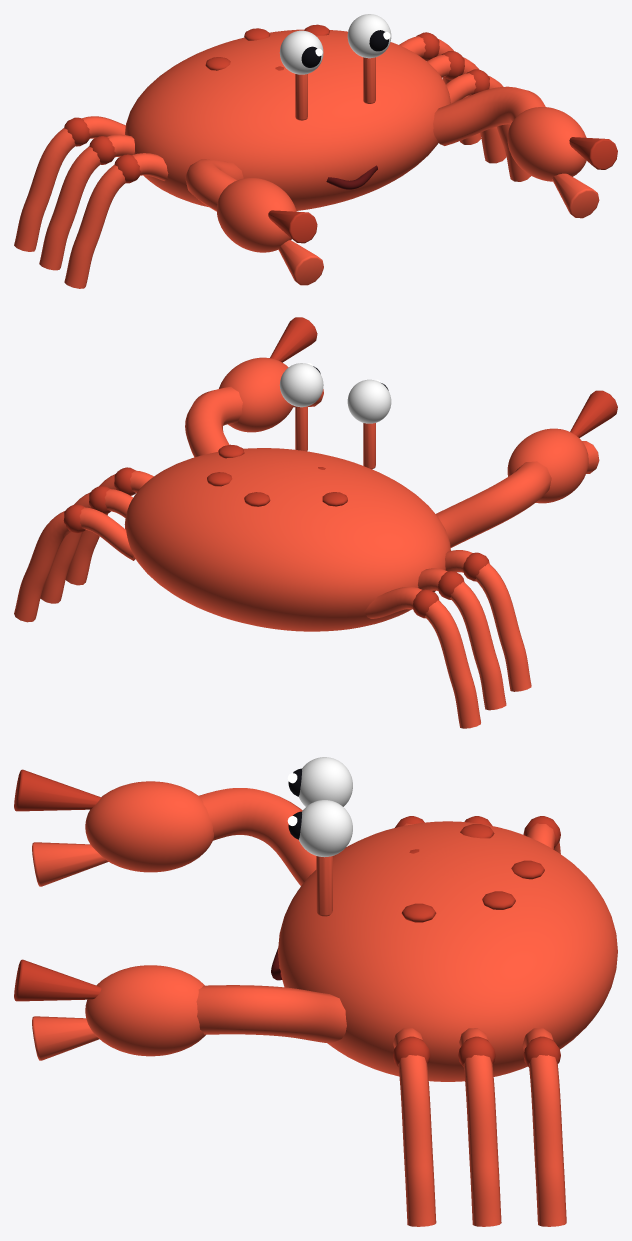
File: kepiting.glb
The picture shows the model from 3 angles, top to bottom: view 1: azimuth 30°, elevation 25°; view 2: azimuth 150°, elevation 25°; view 3: azimuth 270°, elevation 25°; orthographic projection. The views are drawn at different scales.
Visible parts, largest first — view 1: Sphere, Sphere.020, Sphere.016, tube.008, tube.003, tube.001, tube.002, tube.004, tube.005, Cone.002, Cone, Sphere.010 (+13 smaller); view 2: Sphere, tube.004, tube.003, tube.007, Sphere.016, Sphere.020, tube.002, tube.001, tube.008, tube.006, Sphere.007, Sphere.010 (+5 smaller); view 3: Sphere, Sphere.016, Sphere.020, tube.008, tube.007, tube.005, tube.006, tube.004, Sphere.010, Cone.003, Cone.001, Cone (+6 smaller).
Part boxes in pixels (x1=…): Sphere: x1=125, y1=29, x2=450, y2=210; Sphere.020: x1=507, y1=107, x2=586, y2=181; Sphere.016: x1=216, y1=178, x2=296, y2=252; tube.008: x1=433, y1=86, x2=545, y2=145; tube.003: x1=14, y1=116, x2=125, y2=251; tube.001: x1=64, y1=153, x2=168, y2=288; tube.002: x1=39, y1=134, x2=134, y2=270; tube.004: x1=185, y1=159, x2=243, y2=211; tube.005: x1=446, y1=73, x2=530, y2=181; Cone.002: x1=552, y1=173, x2=599, y2=218; Cone: x1=278, y1=240, x2=323, y2=285; Sphere.010: x1=347, y1=14, x2=391, y2=58; Sphere: x1=124, y1=448, x2=450, y2=631; tube.004: x1=436, y1=461, x2=551, y2=547; tube.003: x1=364, y1=587, x2=480, y2=728; tube.007: x1=14, y1=507, x2=135, y2=622; Sphere.016: x1=507, y1=428, x2=588, y2=503; Sphere.020: x1=219, y1=357, x2=293, y2=432; tube.002: x1=418, y1=568, x2=506, y2=710; tube.001: x1=445, y1=550, x2=531, y2=691; tube.008: x1=185, y1=386, x2=242, y2=457; tube.006: x1=40, y1=489, x2=133, y2=603; Sphere.007: x1=347, y1=379, x2=391, y2=423; Sphere.010: x1=279, y1=363, x2=323, y2=407; Sphere: x1=278, y1=821, x2=617, y2=1081; Sphere.016: x1=85, y1=781, x2=213, y2=872; Sphere.020: x1=85, y1=965, x2=205, y2=1056; tube.008: x1=196, y1=985, x2=346, y2=1043; tube.007: x1=522, y1=1028, x2=566, y2=1226; tube.005: x1=393, y1=1028, x2=436, y2=1226; tube.006: x1=459, y1=1028, x2=501, y2=1226; tube.004: x1=199, y1=788, x2=316, y2=885; Sphere.010: x1=299, y1=800, x2=352, y2=857; Cone.003: x1=14, y1=959, x2=101, y2=1001; Cone.001: x1=14, y1=769, x2=101, y2=811; Cone: x1=32, y1=842, x2=108, y2=886.
Size of the model in its own units: 4.79 by 2.32 by 4.16.
